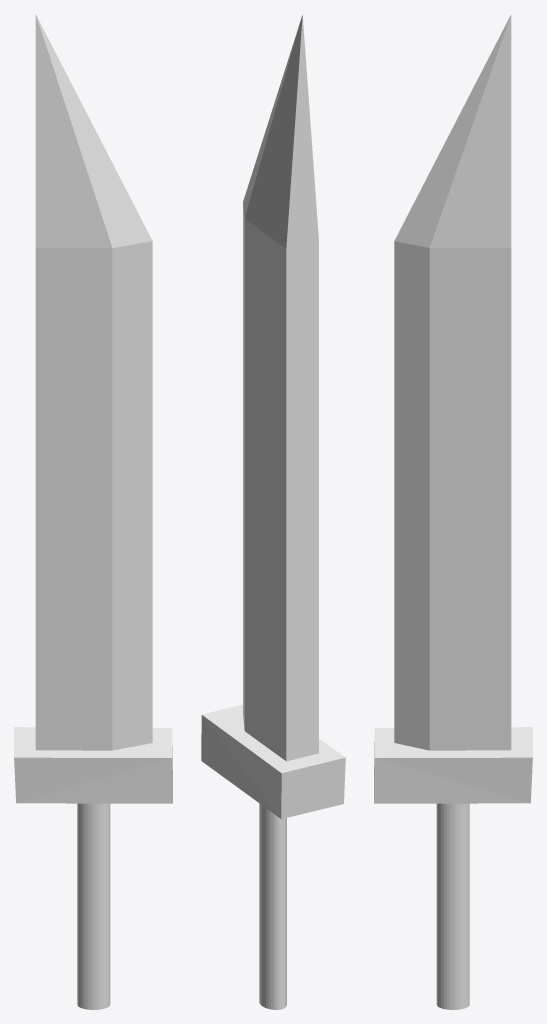
Rendered from playerSword.obj.
The picture shows the model from 3 angles, left to right: view 1: azimuth 90°, elevation 25°; view 2: azimuth 210°, elevation 25°; view 3: azimuth 270°, elevation 25°; orthographic projection. The views are drawn at different scales.
Visible parts, largest first — view 1: 平面.003; view 2: 平面.003; view 3: 平面.003.
Part boxes in pixels (left/top/right/bottom): 平面.003: left=14, top=14, right=172, bottom=1009; 平面.003: left=201, top=15, right=345, bottom=1009; 平面.003: left=374, top=14, right=532, bottom=1009.
Bounding box in the file's own units: 0.3268 × 4.92 × 0.7149.
